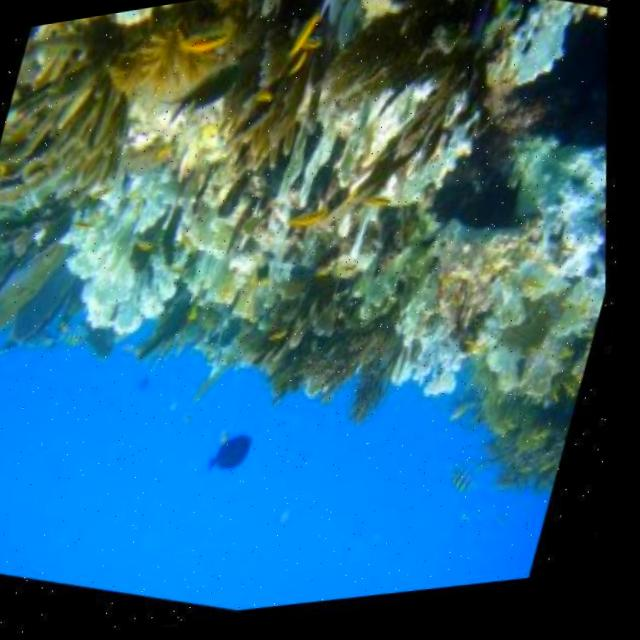Bleached Coral: (355, 86, 633, 458), (18, 89, 299, 407)
